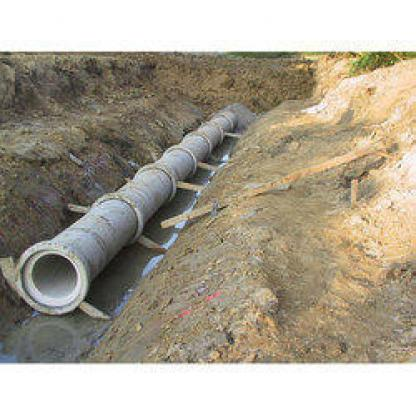PVC: (12, 99, 256, 313)
